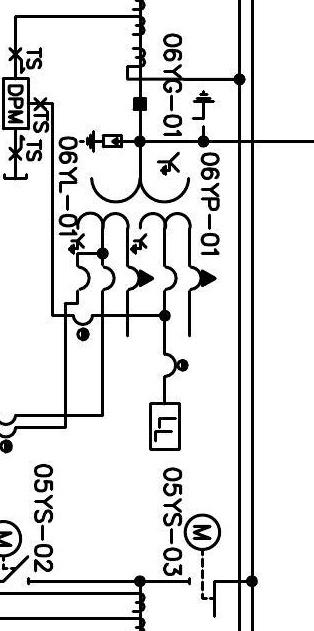115_1way_ds_w_motor: (182, 512, 221, 619)
115_gs: (191, 89, 216, 130)
115_la: (78, 129, 123, 154)
115_vt_3p: (67, 151, 218, 292)
DPM: (2, 77, 30, 130)
LL: (149, 402, 182, 452)
